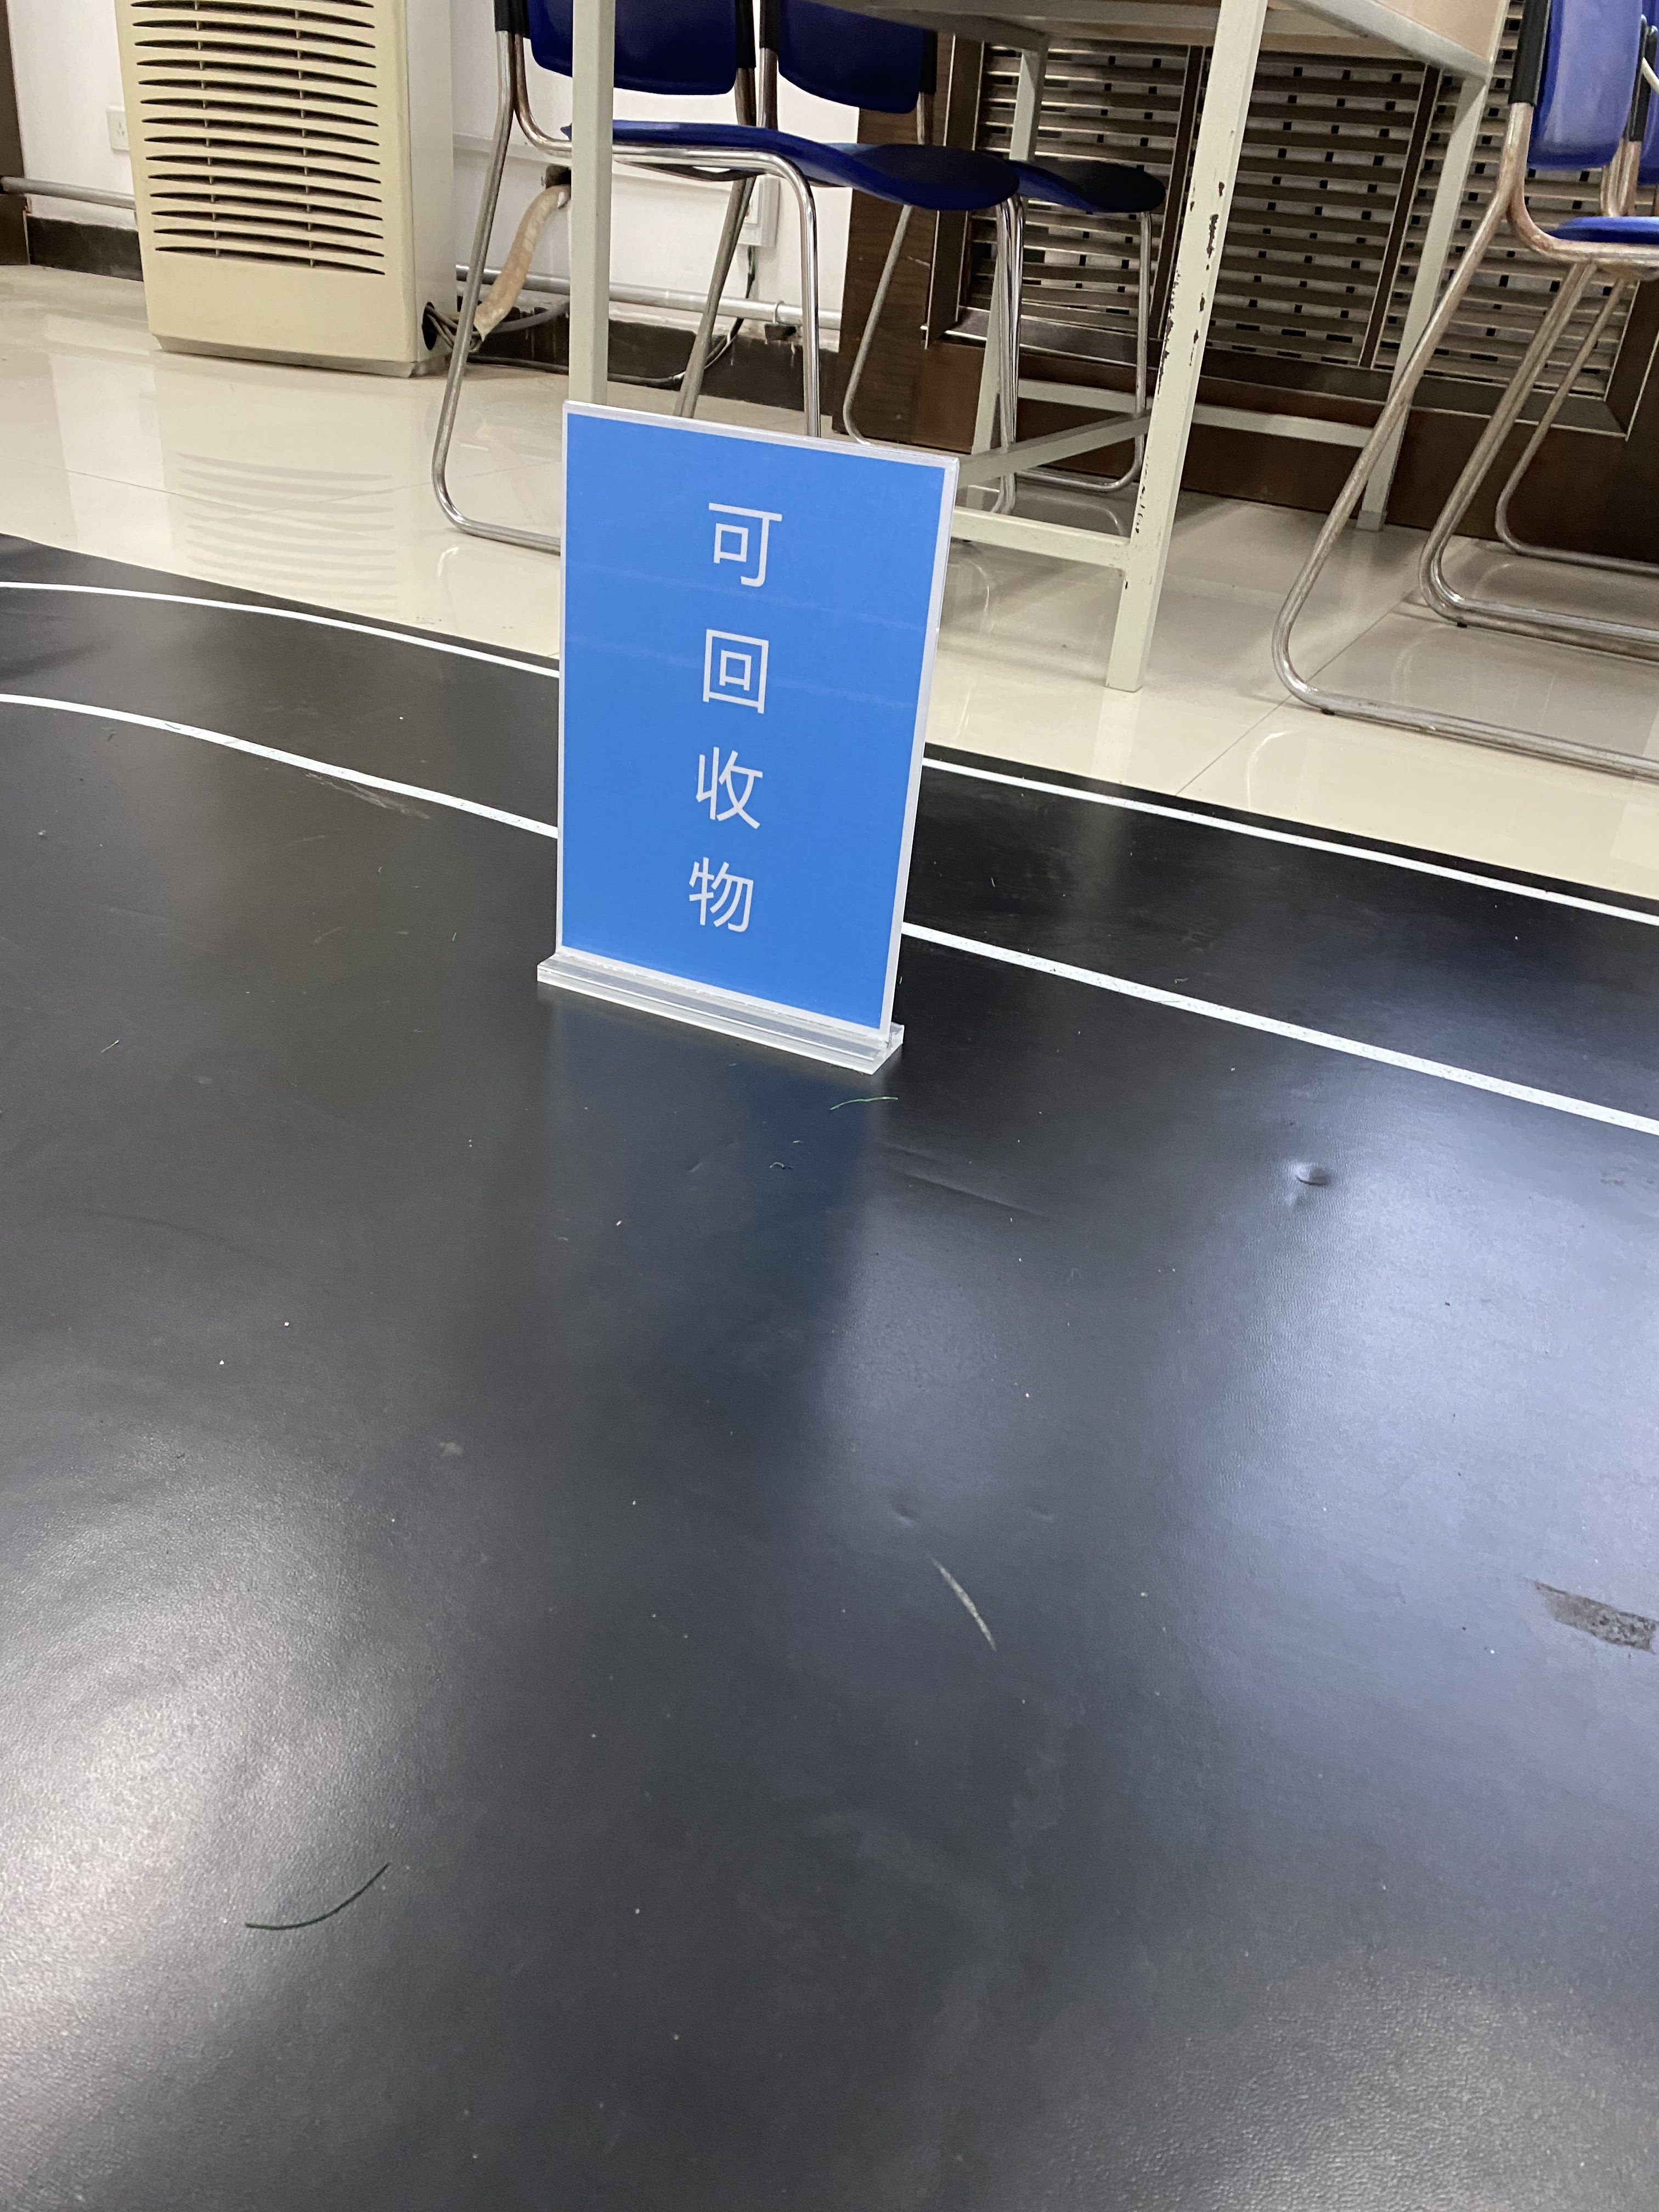blue: (579, 434, 889, 968)
